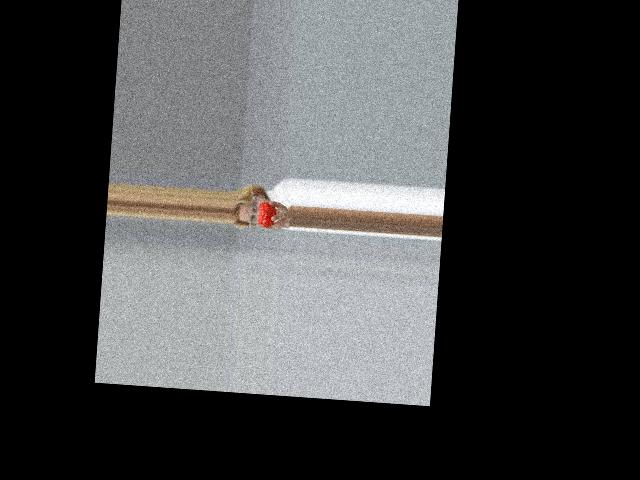tomato: (258, 200, 277, 227)
